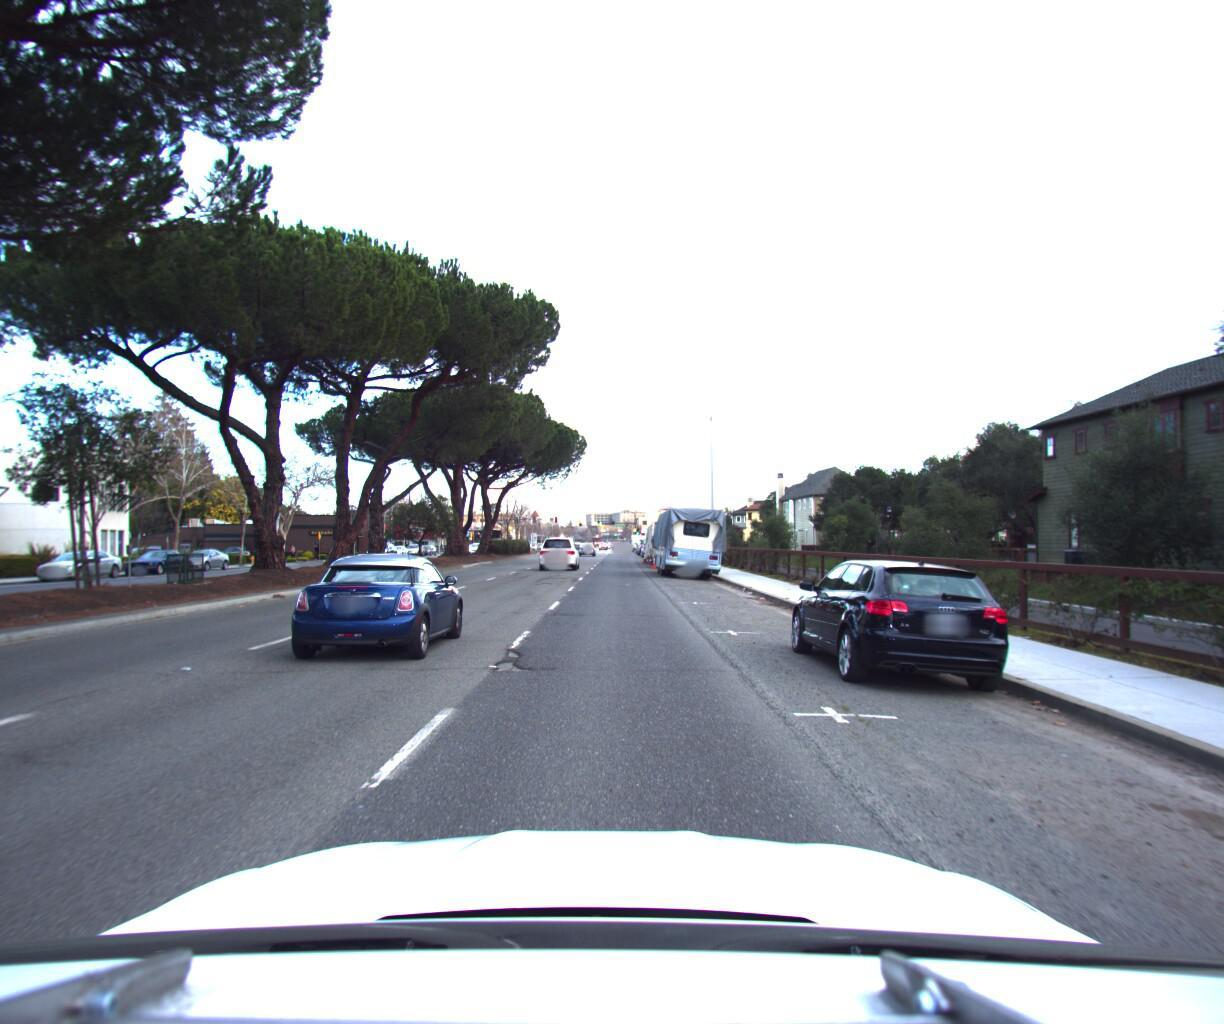car: (775, 547, 1034, 703), (282, 546, 475, 664), (32, 542, 129, 577), (121, 541, 198, 570), (537, 528, 582, 562), (175, 540, 235, 565), (574, 532, 596, 549)
other_vehicle: (642, 510, 693, 558)
truck: (651, 492, 727, 573)
